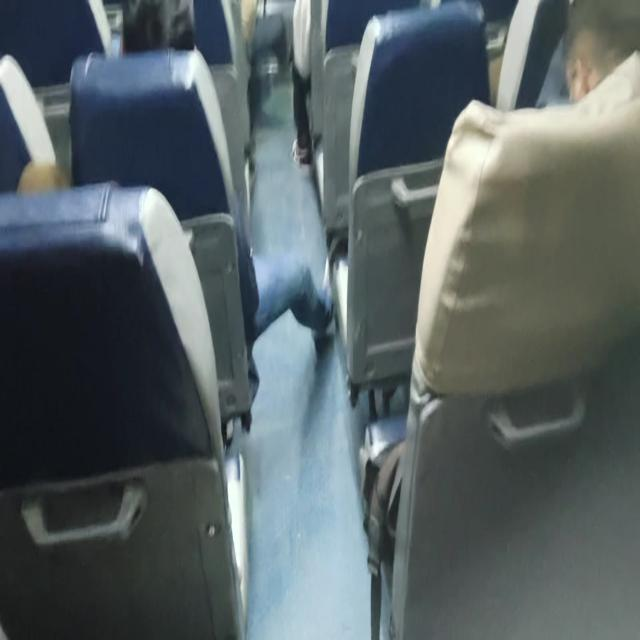person: (562, 0, 639, 122), (130, 0, 207, 81)
